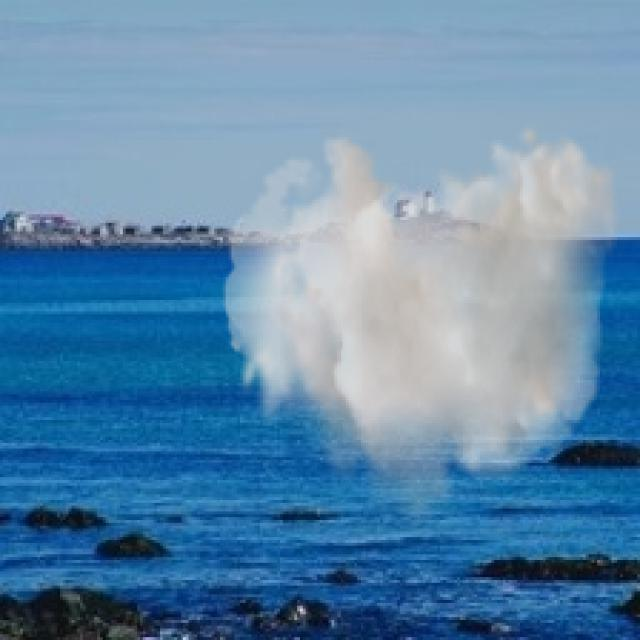smoke: (223, 123, 620, 534)
